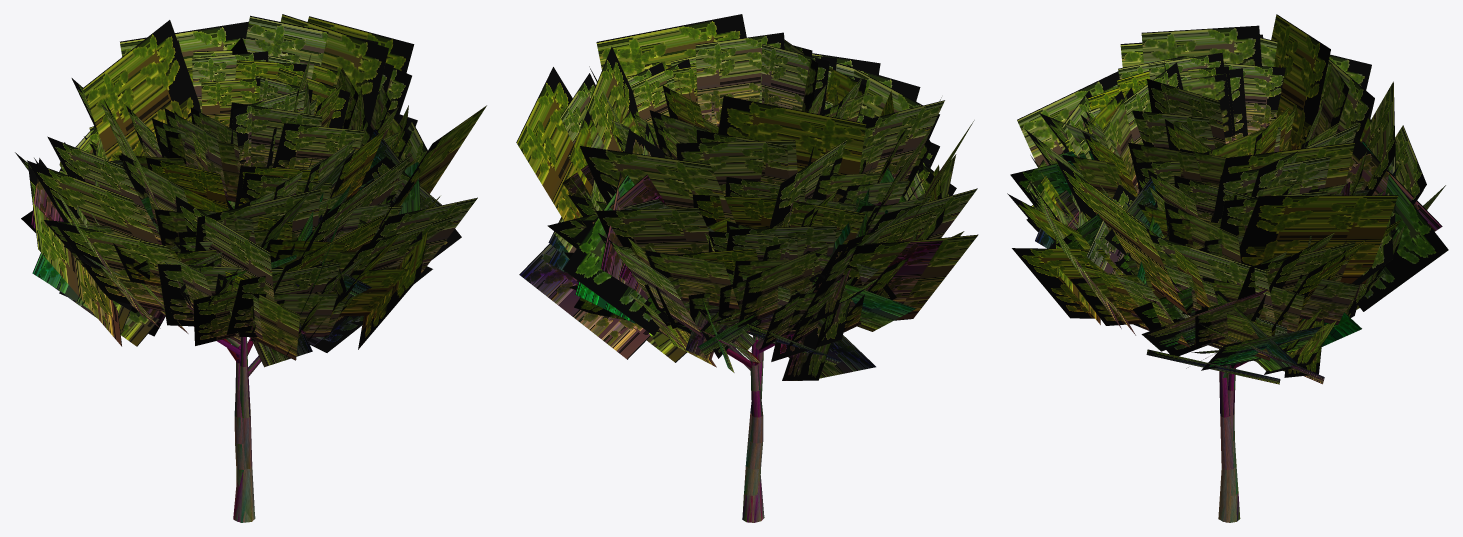
File: tree-linden.glb
3 renders of one model, left to right at view 1: azimuth 30°, elevation 25°; view 2: azimuth 150°, elevation 25°; view 3: azimuth 270°, elevation 25°, orthographic.
Parts seen in each view (by area): view 1: lo-leaf, hi-leaf, lo-bark, hi-bark; view 2: lo-leaf, hi-leaf, hi-bark, lo-bark; view 3: lo-leaf, hi-leaf, lo-bark, hi-bark.
Part boxes in pixels (x1,y1,x2,y2): lo-leaf: (15, 14, 486, 367); hi-leaf: (29, 40, 441, 360); lo-bark: (194, 326, 261, 522); hi-bark: (223, 337, 255, 522); lo-leaf: (516, 14, 978, 380); hi-leaf: (554, 32, 956, 372); hi-bark: (726, 335, 764, 522); lo-bark: (728, 338, 774, 522); lo-leaf: (1007, 14, 1448, 384); hi-leaf: (1026, 52, 1423, 377); lo-bark: (1218, 349, 1236, 522); hi-bark: (1218, 362, 1247, 522).
Bounding box in the file's own units: 13.74 × 14.73 × 12.87.
2 materials, 2 textured.
